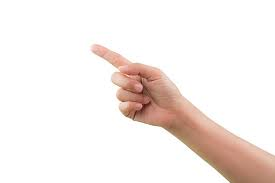hand: (83, 33, 187, 136)
